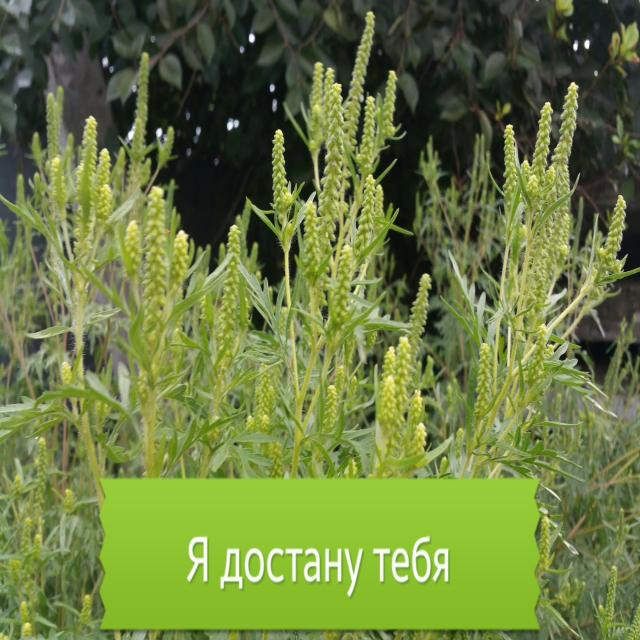ambrosia: (462, 55, 630, 426), (243, 45, 419, 352), (98, 163, 200, 454)
